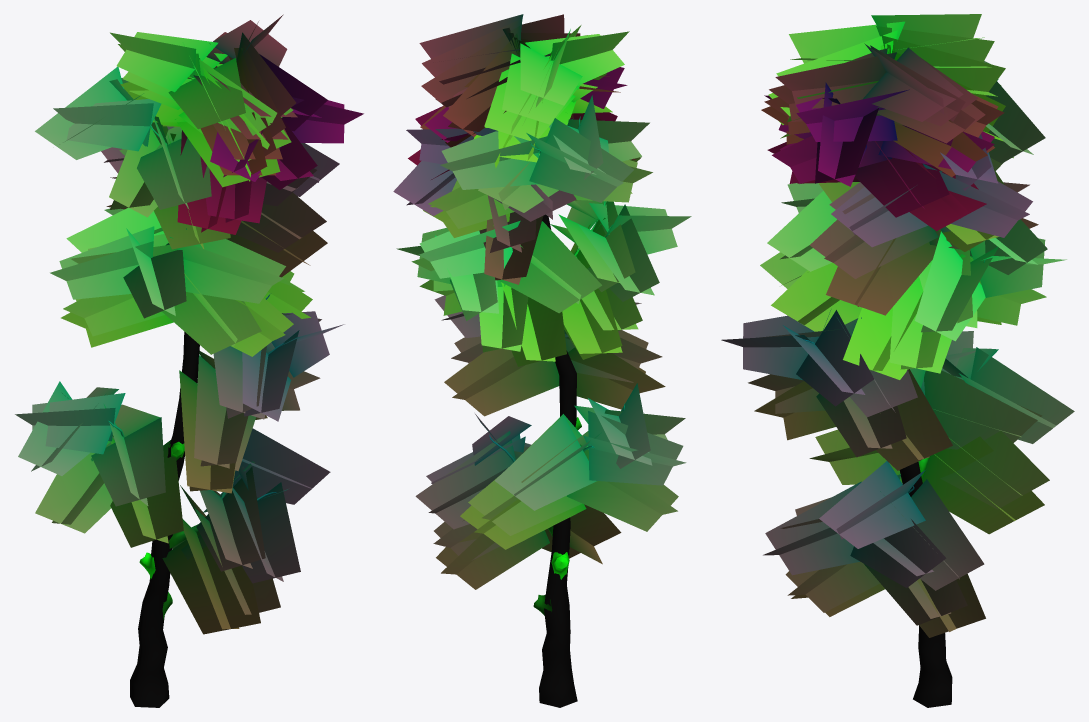
File: M_Realistic7_13.fbx
3 views of the same model, side by side, from view 1: azimuth 30°, elevation 25°; view 2: azimuth 150°, elevation 25°; view 3: azimuth 270°, elevation 25° (orthographic). The views are drawn at different scales.
Visible parts, largest first — view 1: Tree_13; view 2: Tree_13; view 3: Tree_13.
Part boxes in pixels (left/top/right/bottom): Tree_13: left=15, top=14, right=363, bottom=707; Tree_13: left=393, top=14, right=691, bottom=707; Tree_13: left=721, top=14, right=1074, bottom=707.
Bounding box in the file's own units: 1058 × 2323 × 1079.
